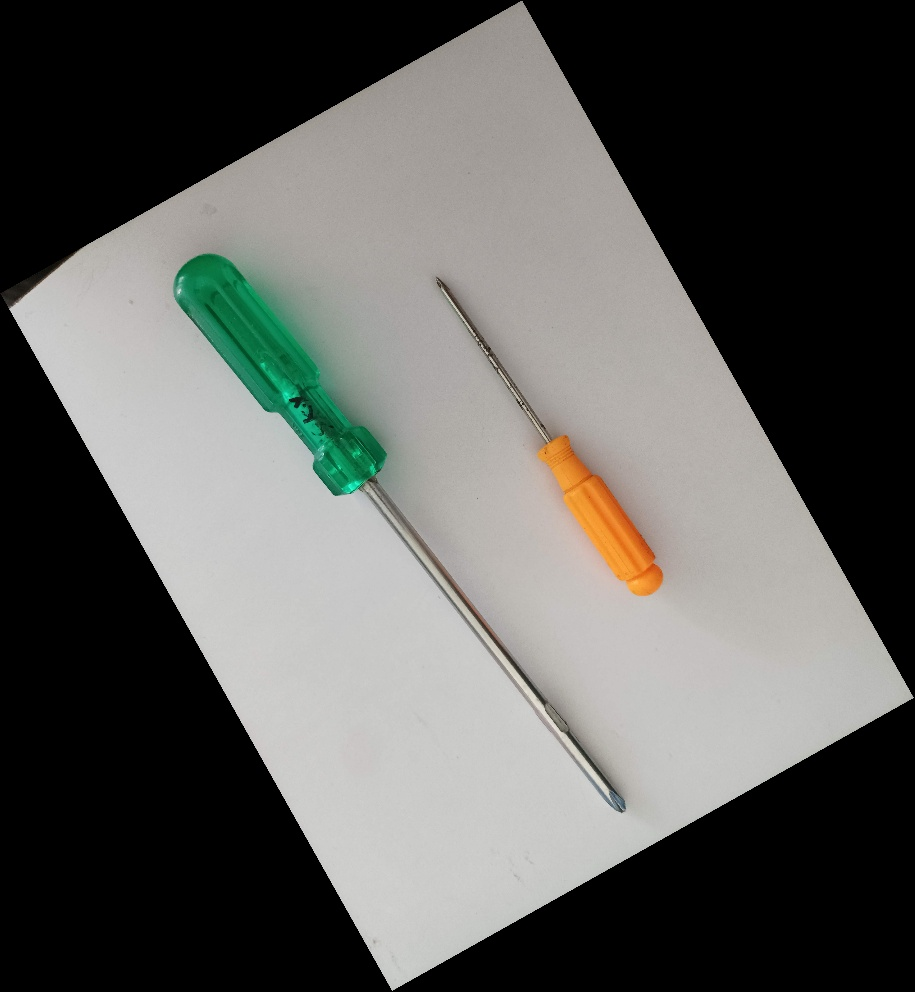screwdriver: (169, 249, 630, 818), (426, 267, 668, 600)
